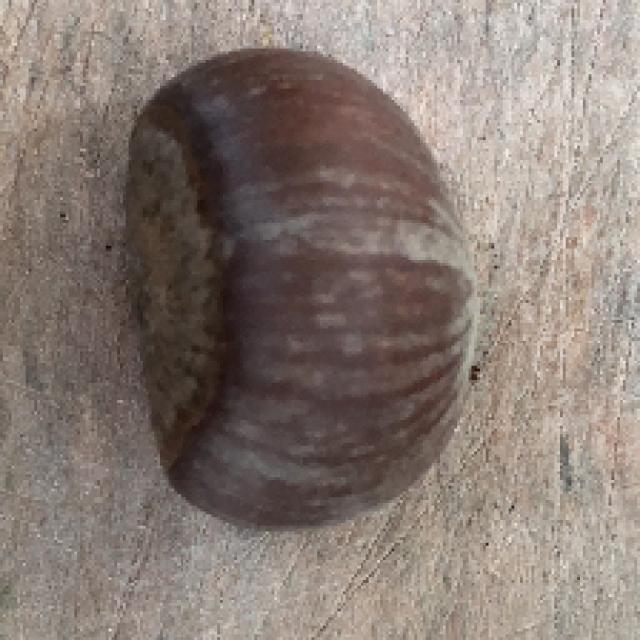damagedHazelnut: (104, 40, 508, 540)
